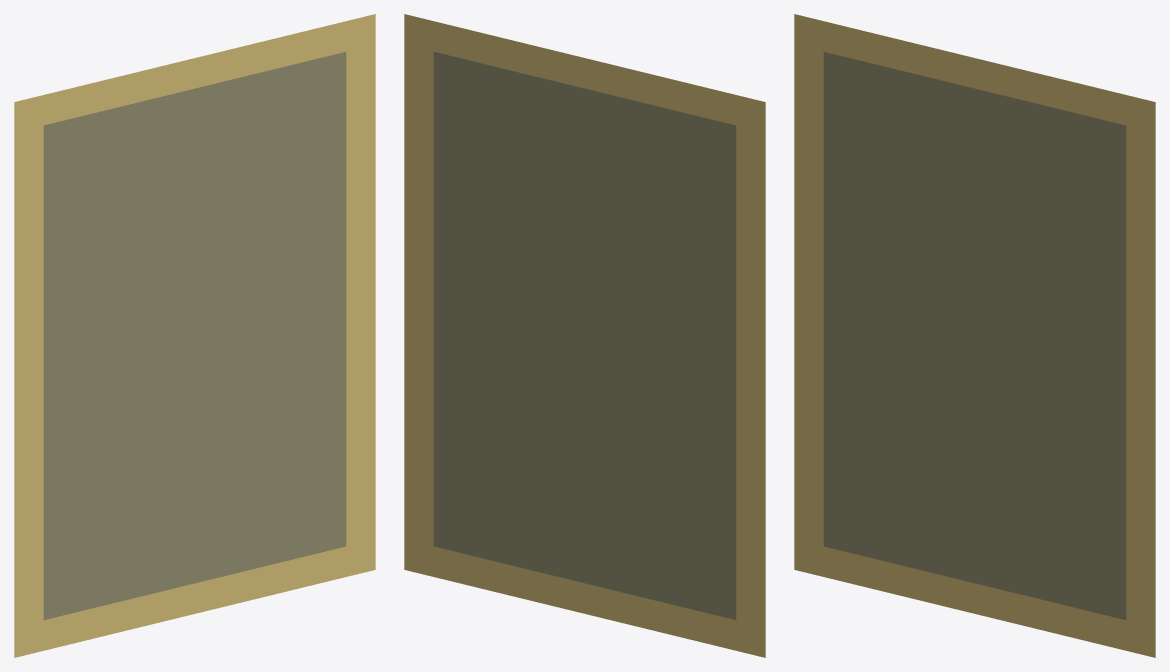
File: PTechMaintPanel.glb
The picture shows the model from 3 angles, left to right: view 1: azimuth 30°, elevation 25°; view 2: azimuth 150°, elevation 25°; view 3: azimuth 330°, elevation 25°; orthographic projection.
Parts seen in each view (by area): view 1: PTechMaintPanel; view 2: PTechMaintPanel; view 3: PTechMaintPanel.
Part boxes in pixels (x1,y1,x2,y2): PTechMaintPanel: (14,14,375,657); PTechMaintPanel: (404,14,765,657); PTechMaintPanel: (794,14,1155,657).
Size of the model in its own units: 0.252 by 0.3705 by 5.07e-07.
1 material, 1 textured.
